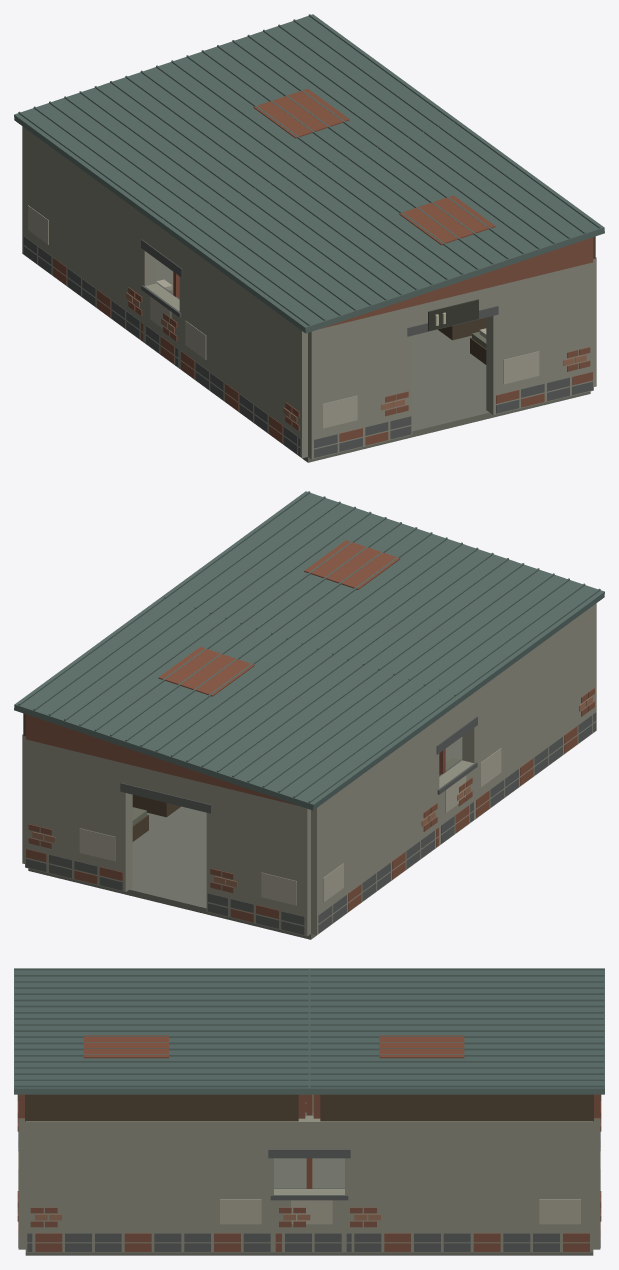
The model's file is FSA_ENV_Quarantine_Building_02_Dormitory.glb.
3 renders of one model, top to bottom at view 1: azimuth 30°, elevation 25°; view 2: azimuth 150°, elevation 25°; view 3: azimuth 270°, elevation 25°, orthographic.
Visible parts, largest first — view 1: Roof_Front, Roof_Back, WestRight, WestLeft, FrontRight, FrontLeft, Floor, RoofPatch_303, RoofPatch_282, WestSill, FrontLintel, Sign_8 (+4 smaller); view 2: Roof_Back, Roof_Front, WestLeft, WestRight, BackRight, BackLeft, Floor, RoofPatch_303, RoofPatch_282, BackLintel, WestSill, WestLintel (+4 smaller); view 3: EastRight, EastLeft, Roof_Back, Roof_Front, RoofEave_363, RoofEave_423, Floor, EastLintel, EastSill, RoofPatch_282, RoofPatch_303, Repair_201 (+46 smaller).
Boxes of the visible parts, x1,y1,x2,y2 form: Roof_Front: [159, 121, 604, 333]; Roof_Back: [14, 14, 458, 226]; WestRight: [179, 241, 307, 458]; WestLeft: [22, 126, 156, 342]; FrontRight: [486, 261, 593, 414]; FrontLeft: [308, 306, 412, 459]; Floor: [156, 260, 590, 462]; RoofPatch_303: [253, 88, 349, 138]; RoofPatch_282: [399, 195, 495, 245]; WestSill: [144, 283, 179, 368]; FrontLintel: [412, 287, 493, 326]; Sign_8: [428, 299, 478, 330]; Roof_Back: [14, 598, 459, 810]; Roof_Front: [160, 491, 604, 703]; WestLeft: [311, 718, 439, 935]; WestRight: [462, 603, 596, 819]; BackRight: [25, 738, 132, 891]; BackLeft: [206, 783, 310, 936]; Floor: [28, 737, 462, 939]; RoofPatch_303: [158, 646, 254, 696]; RoofPatch_282: [304, 540, 400, 589]; BackLintel: [125, 764, 206, 803]; WestSill: [439, 760, 474, 845]; WestLintel: [439, 693, 474, 743]; EastRight: [25, 1121, 273, 1252]; EastLeft: [345, 1121, 593, 1252]; Roof_Back: [309, 968, 604, 1094]; Roof_Front: [14, 968, 309, 1094]; RoofEave_363: [25, 1094, 298, 1121]; RoofEave_423: [320, 1094, 593, 1121]; Floor: [25, 1113, 593, 1255]; EastLintel: [274, 1116, 344, 1149]; EastSill: [274, 1189, 344, 1252]; RoofPatch_282: [83, 1035, 168, 1058]; RoofPatch_303: [379, 1035, 464, 1058]; Repair_201: [539, 1199, 580, 1224].
Bounding box in the file's own units: 7.42 × 4.02 × 12.5.
